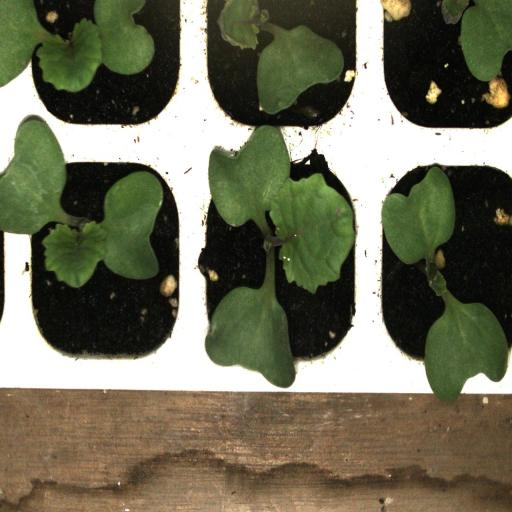Folha: (219, 0, 344, 115), (424, 273, 512, 401), (381, 166, 456, 264), (441, 0, 512, 82)
Germinacao: (194, 143, 370, 380), (17, 142, 193, 375), (371, 142, 512, 384), (13, 0, 194, 142)
